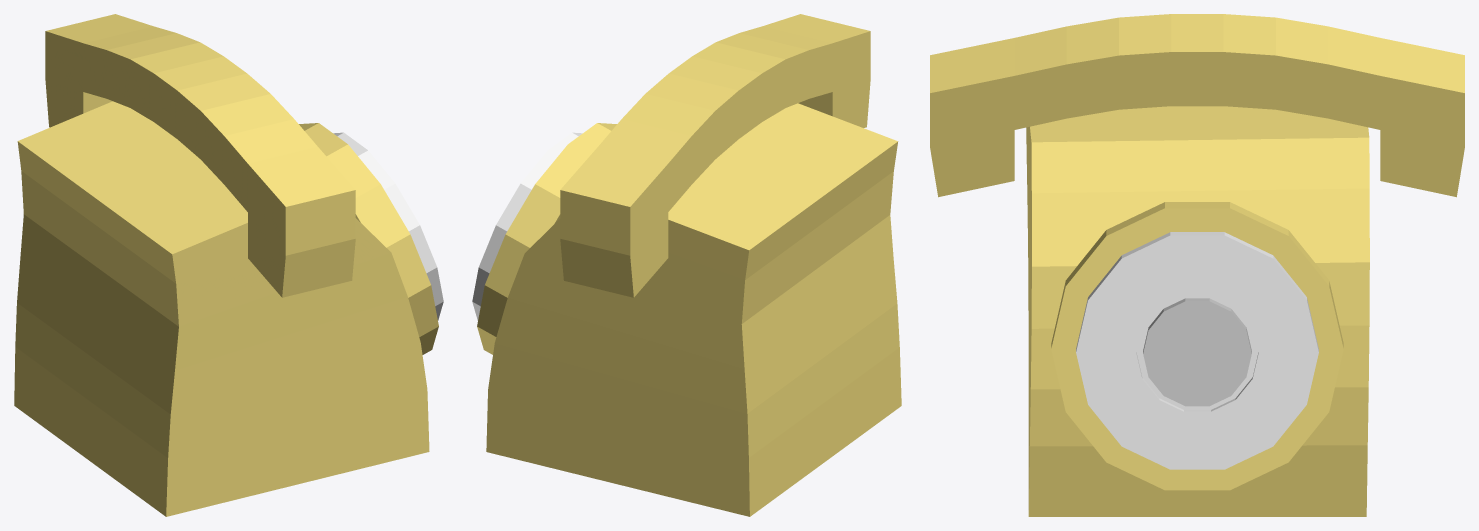
The model's file is rotaryPhone1.fbx.
3 views of the same model, side by side, from view 1: azimuth 30°, elevation 25°; view 2: azimuth 150°, elevation 25°; view 3: azimuth 270°, elevation 25° (orthographic). The views are drawn at different scales.
Parts seen in each view (by area): view 1: RotaryPhone; view 2: RotaryPhone; view 3: RotaryPhone.
Part boxes in pixels (x1,y1,x2,y2): RotaryPhone: [14, 14, 443, 516]; RotaryPhone: [472, 14, 901, 516]; RotaryPhone: [930, 14, 1464, 516].
Size of the model in its own units: 67.38 by 72.82 by 87.89.
